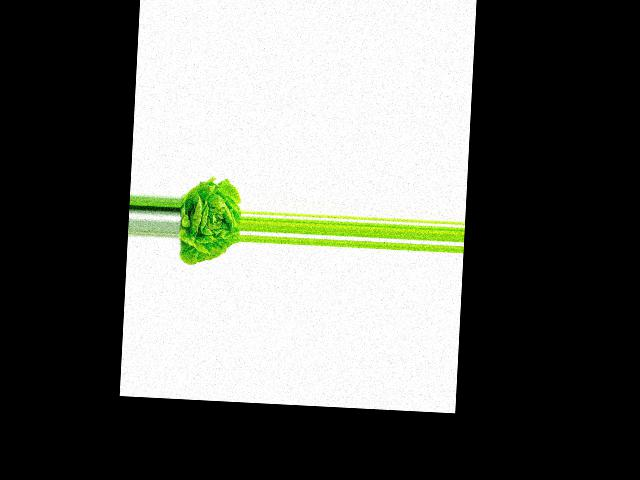lettuce: (176, 178, 242, 269)
